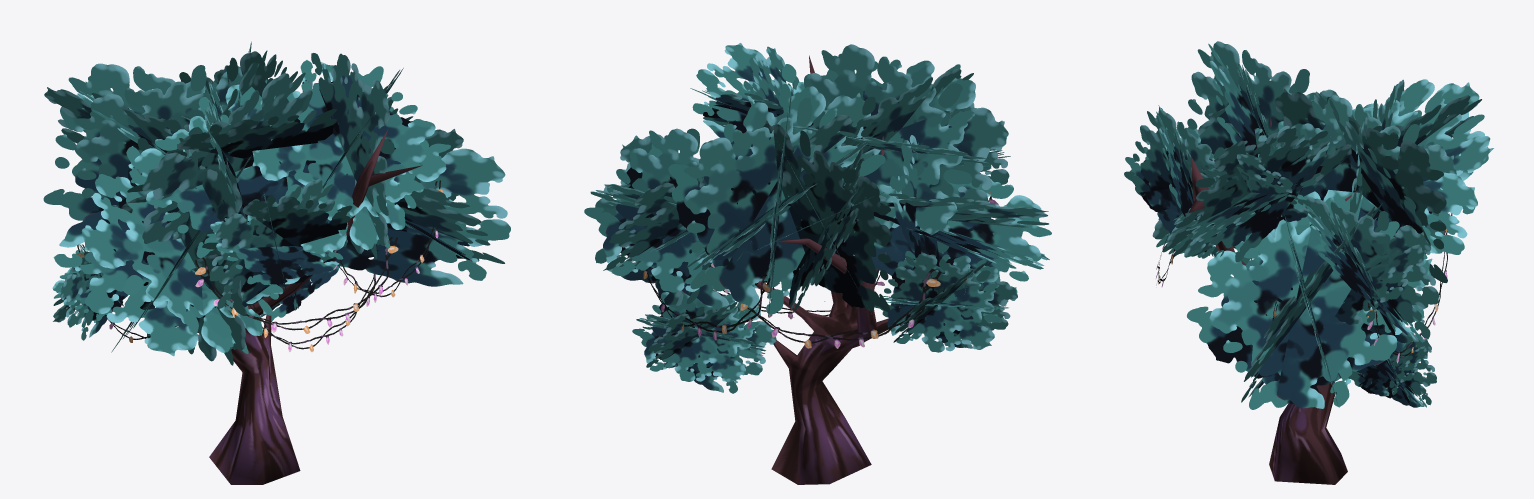
Rendered from tree 1.fbx.
The picture shows the model from 3 angles, left to right: view 1: azimuth 30°, elevation 25°; view 2: azimuth 150°, elevation 25°; view 3: azimuth 270°, elevation 25°; orthographic projection. The views are drawn at different scales.
Parts seen in each view (by area): view 1: Cube; view 2: Cube; view 3: Cube.
Boxes of the visible parts, x1,y1,x2,y2 form: Cube: [43, 41, 510, 484]; Cube: [584, 43, 1051, 484]; Cube: [1124, 41, 1493, 484].
Size of the model in its own units: 829 by 731 by 649.
